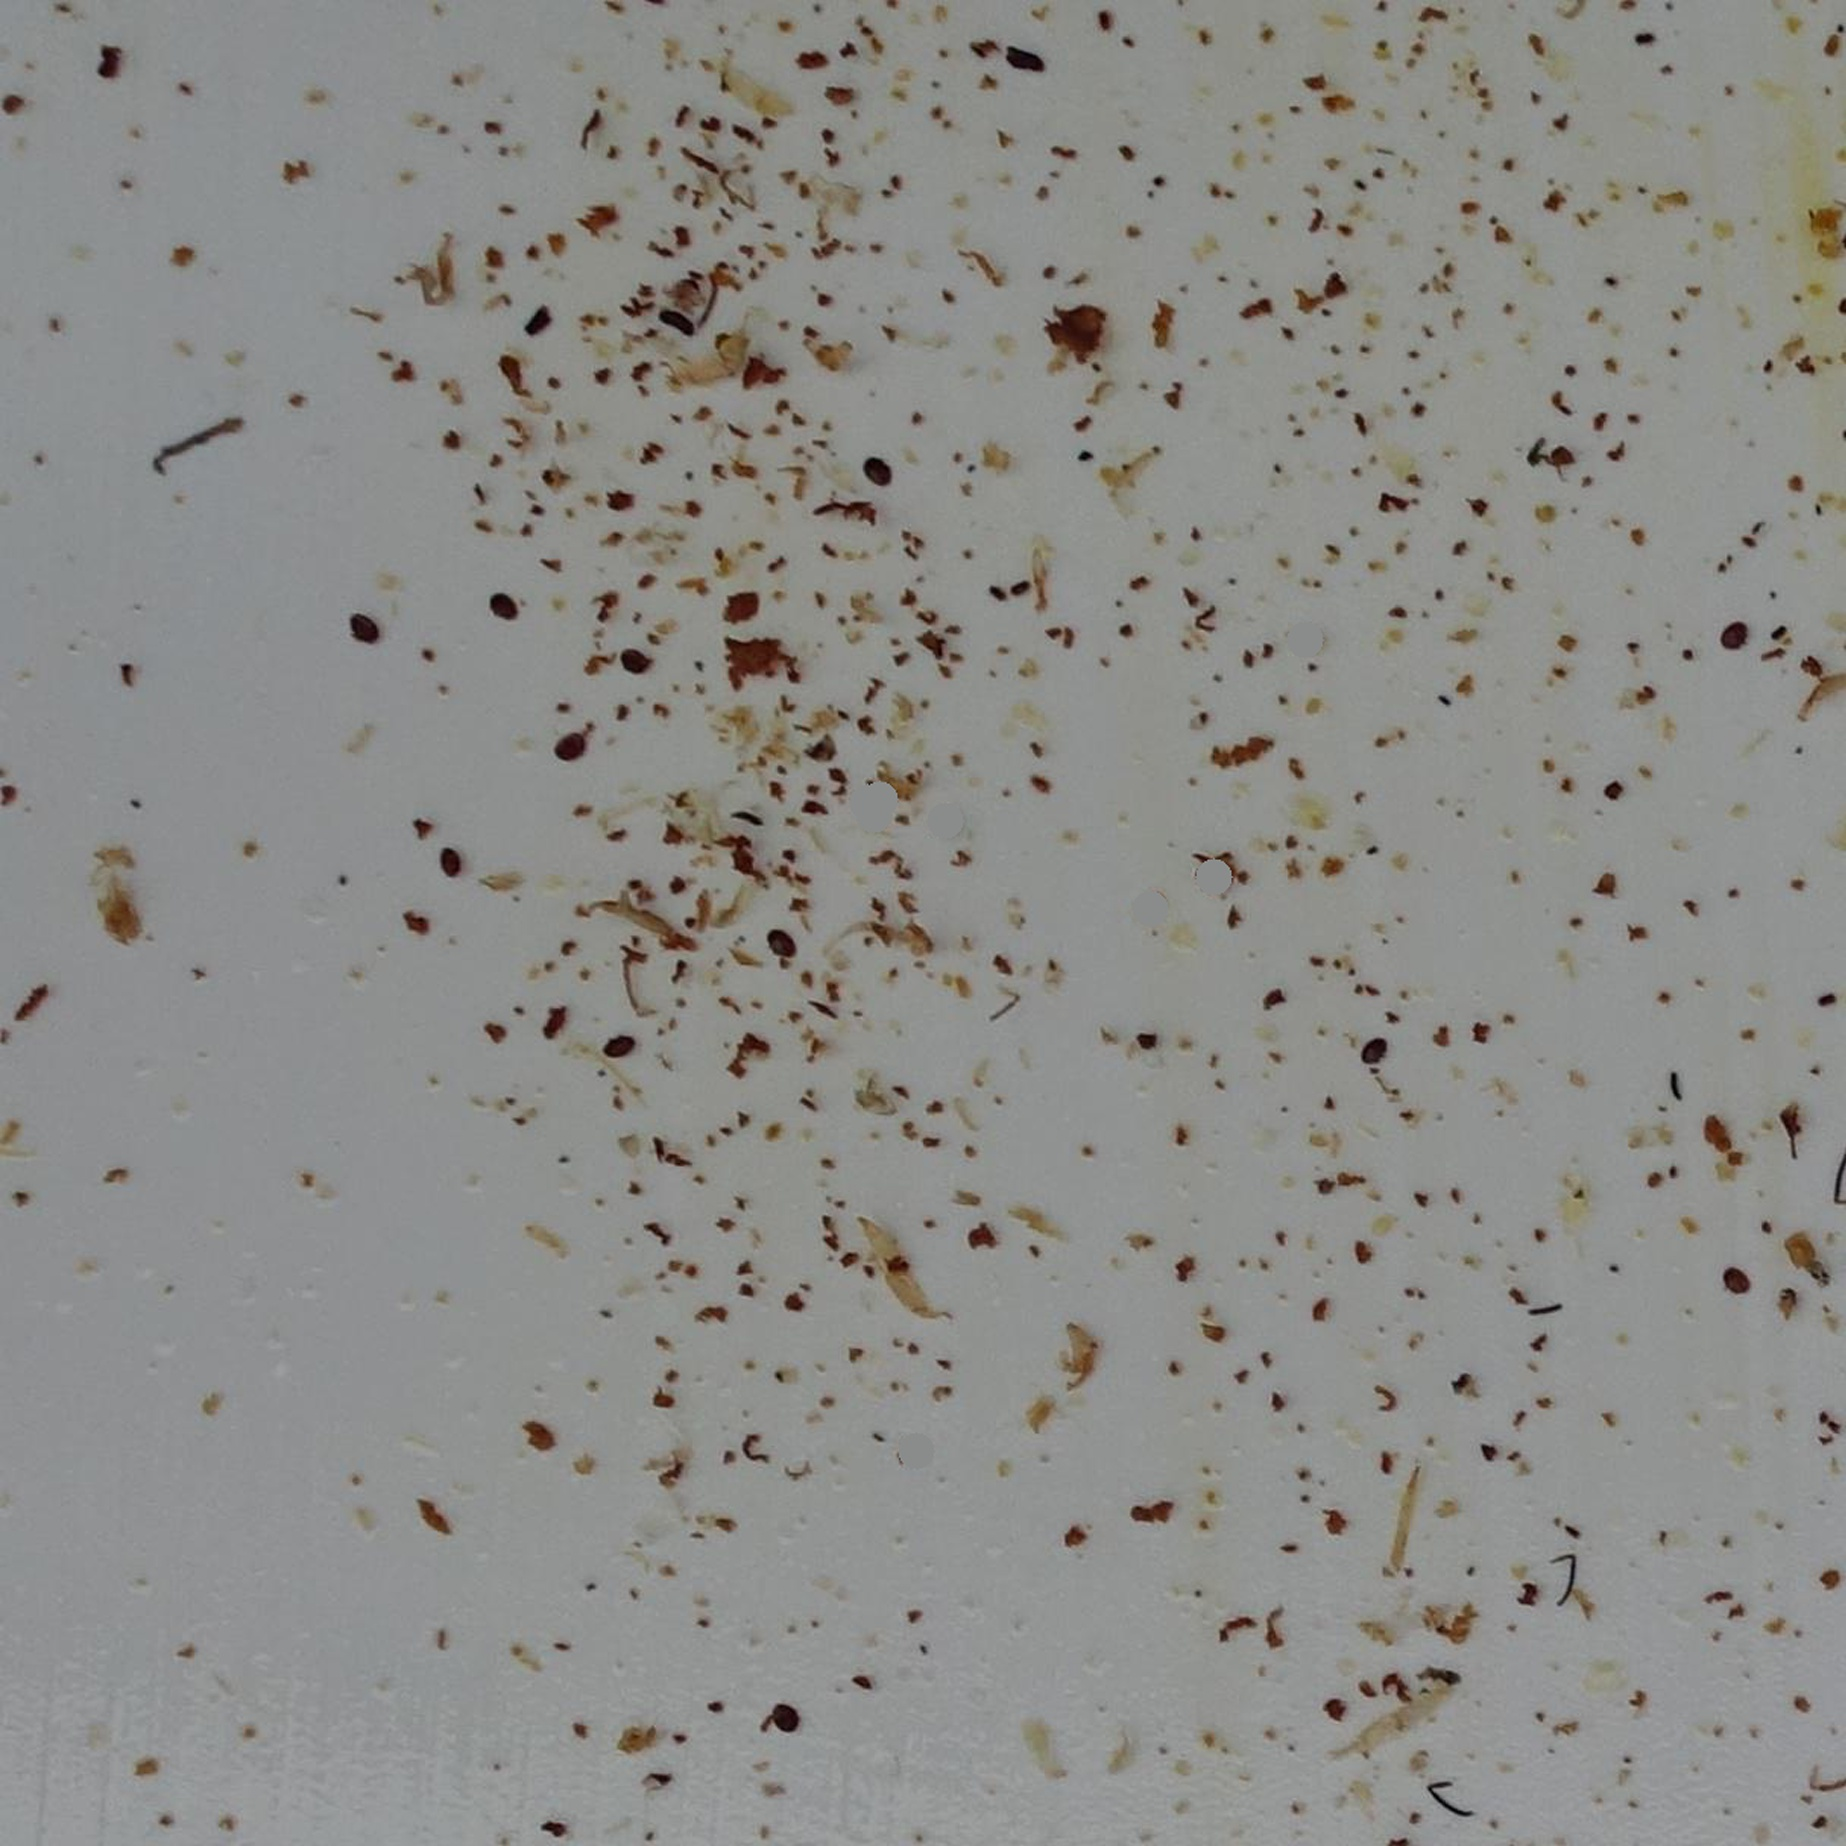Varroa: (773, 1699, 798, 1726), (352, 615, 377, 641), (874, 453, 898, 478), (624, 647, 647, 671), (609, 1031, 631, 1055), (1728, 1270, 1750, 1292), (440, 847, 461, 869), (773, 926, 793, 948), (1369, 1040, 1383, 1053), (1723, 632, 1734, 647), (556, 745, 568, 759), (570, 744, 582, 756), (505, 600, 516, 612)
